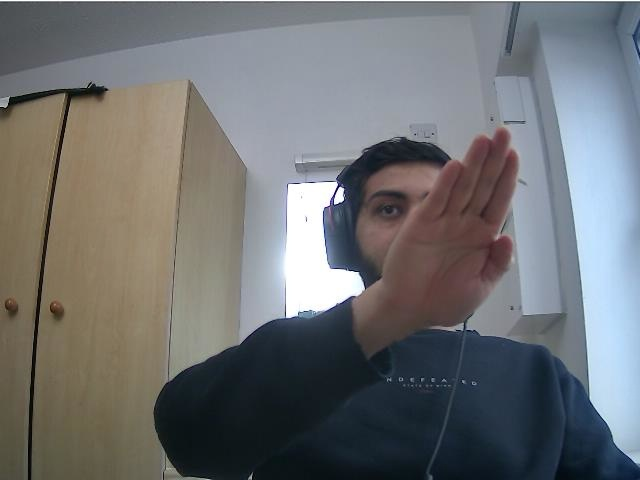up: (380, 124, 524, 330)
